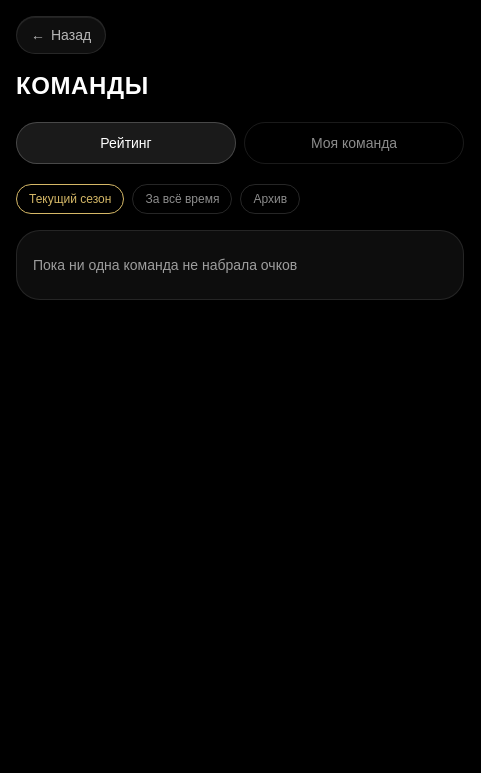
Test case: Teams -- Моя команда tab, has a team › captain management controls: rename/emblem, invite, disband are all present
The image size is (481, 773).
Click the button "Моя команда": (354,143) [244,122,464,164]
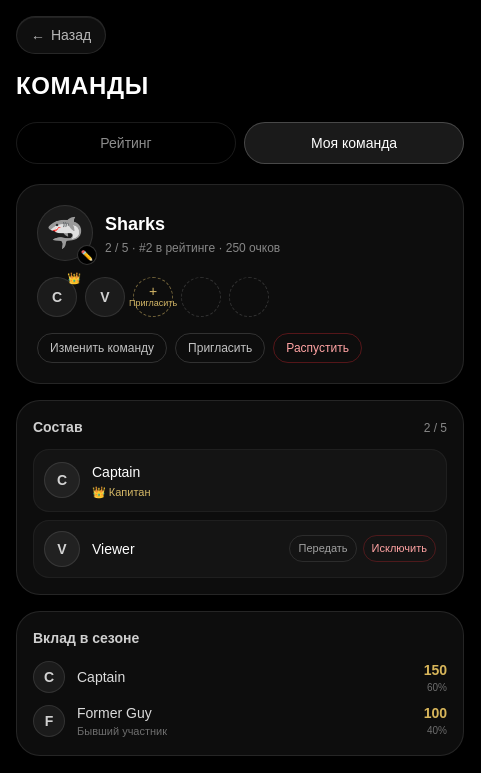
Expected: the text "Изменить команду" is shown, [37,333,167,363]
Expected: the text "Пригласить" is shown, [129,298,177,310]
Expected: the text "Распустить" is shown, [273,333,362,363]
